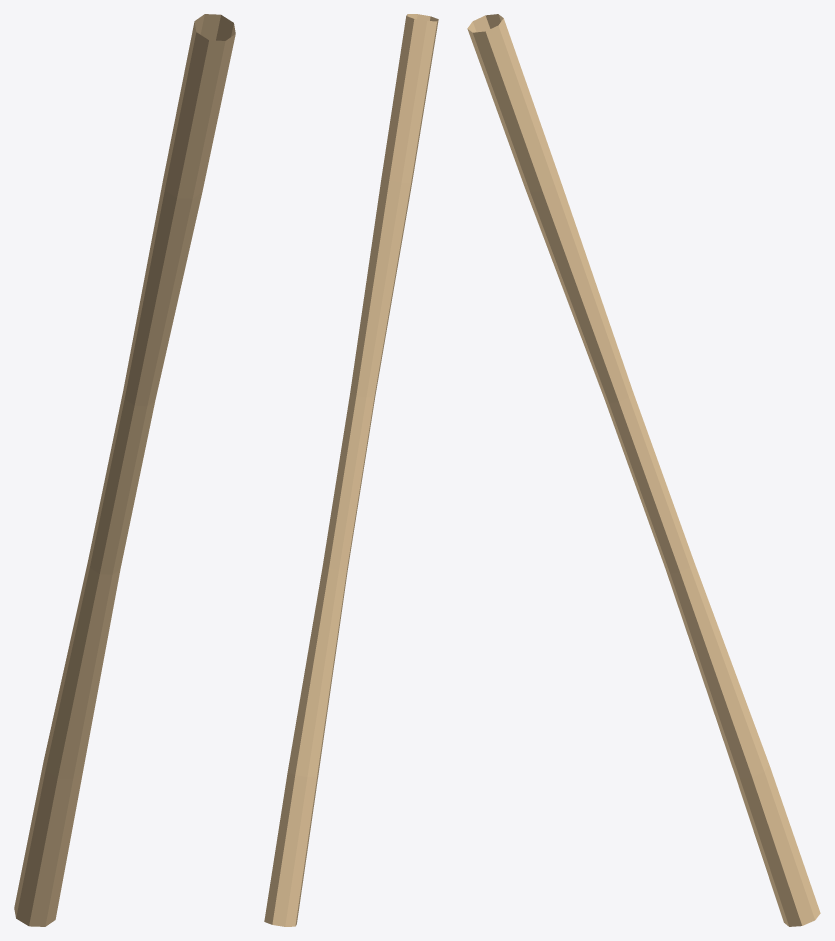
The model's file is catapult.rope.fbx.
The picture shows the model from 3 angles, left to right: view 1: azimuth 30°, elevation 25°; view 2: azimuth 150°, elevation 25°; view 3: azimuth 270°, elevation 25°; orthographic projection. The views are drawn at different scales.
Parts seen in each view (by area): view 1: catapult.rope; view 2: catapult.rope; view 3: catapult.rope.
Boxes of the visible parts, x1=… form: catapult.rope: x1=14, y1=14, x2=235, y2=926; catapult.rope: x1=264, y1=14, x2=438, y2=926; catapult.rope: x1=467, y1=14, x2=820, y2=926.
Bounding box in the file's own units: 0.054 × 1.41 × 0.4997.
